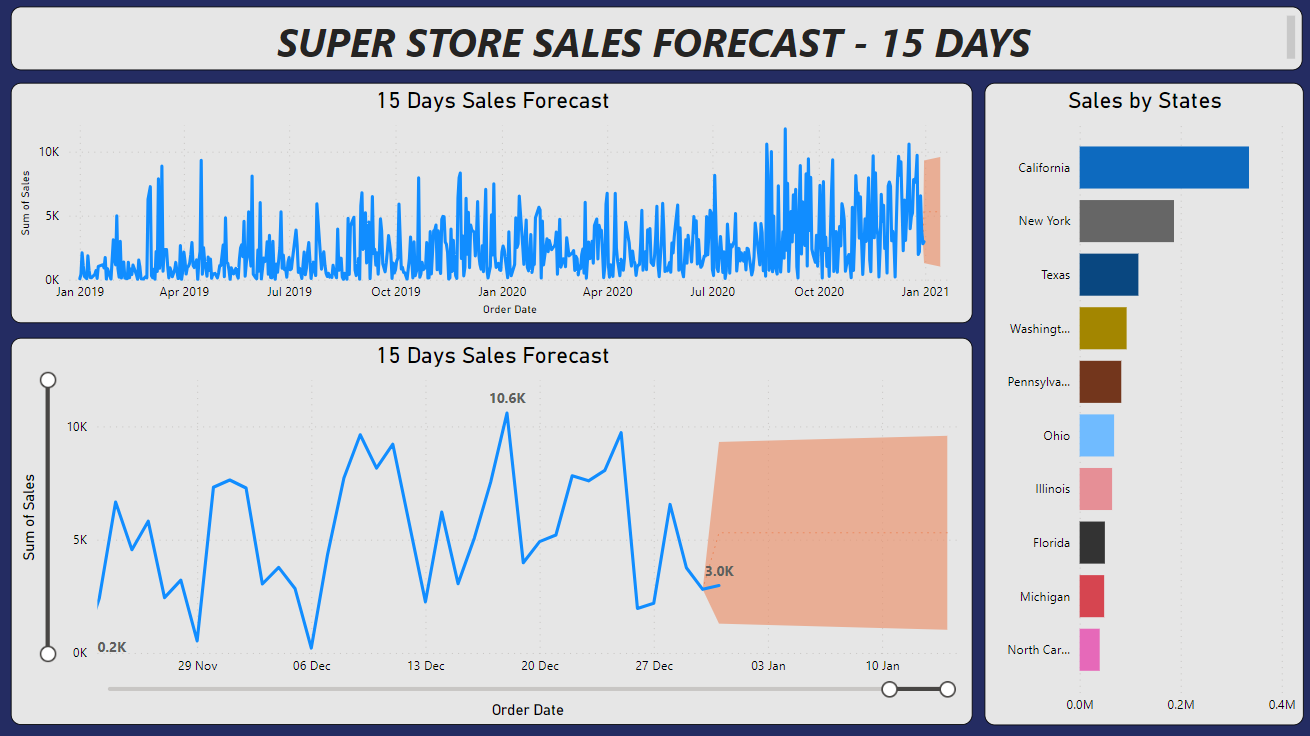

What the dashboard file says about the page in this screenshot:
{"tool":"powerbi","page":{"name":"Page 2","canvas":[1280,720],"ordinal":1},"visuals":[{"type":"lineChart","title":"15 Days Sales Forecast","fields":{"Y":["Sum(SuperStore_Sales_Dataset.Sales)"],"Category":["SuperStore_Sales_Dataset.Order Date"]},"box":[18.7,85.3,928,232],"z":0},{"type":"lineChart","title":"15 Days Sales Forecast","fields":{"Y":["Sum(SuperStore_Sales_Dataset.Sales)"],"Category":["SuperStore_Sales_Dataset.Order Date"]},"box":[18.7,332,928,373.3],"z":1000},{"type":"clusteredBarChart","title":"Sales by States","fields":{"Y":["Sum(SuperStore_Sales_Dataset.Sales)"],"Category":["SuperStore_Sales_Dataset.State"]},"box":[957.3,85.3,308,620],"z":2000},{"type":"textbox","box":[18.7,12,1246.7,61.3],"z":3000}]}

Visuals, with their boxes in screenshot pixels (x1, y1, x2, y2), scaled from the page's 1280x720 canvas onto the 1310x736 screenshot:
"15 Days Sales Forecast" lineChart: 19 87 969 324
"15 Days Sales Forecast" lineChart: 19 339 969 721
"Sales by States" clusteredBarChart: 980 87 1295 721
textbox: 19 12 1295 75
